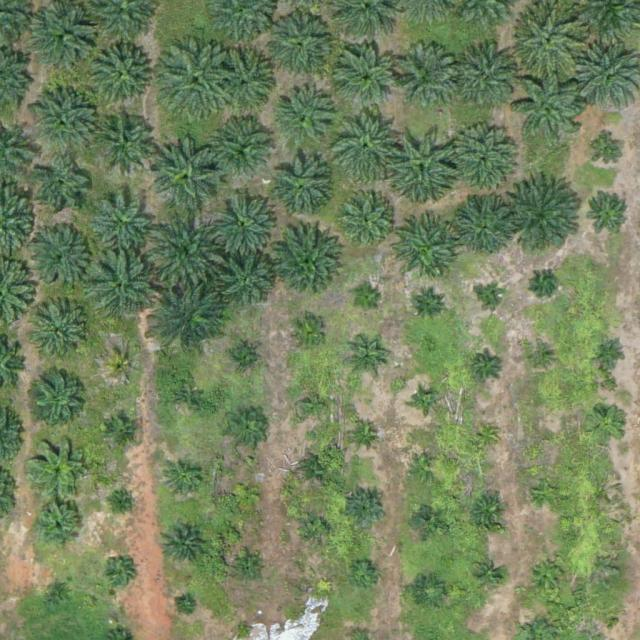Healthy: (386, 129, 464, 208), (328, 107, 406, 186), (156, 42, 234, 121), (147, 211, 225, 290), (152, 280, 230, 359), (508, 179, 586, 257), (515, 71, 586, 142), (271, 230, 342, 301), (516, 5, 586, 76), (446, 125, 517, 195), (209, 186, 279, 257), (153, 136, 223, 207), (89, 254, 160, 324), (389, 219, 459, 289), (30, 88, 100, 158), (452, 194, 515, 257), (274, 88, 337, 151), (95, 110, 158, 173), (27, 436, 90, 499), (456, 48, 518, 111), (393, 47, 455, 110), (337, 49, 399, 112), (336, 191, 398, 254), (267, 16, 329, 79), (269, 156, 332, 218), (213, 46, 275, 109), (92, 192, 154, 255), (32, 158, 94, 221), (29, 226, 91, 289), (215, 118, 277, 180), (90, 43, 152, 105), (35, 8, 97, 70), (221, 256, 276, 311), (36, 307, 91, 362), (32, 367, 86, 422), (295, 387, 334, 426)
Small: (32, 499, 87, 554), (161, 521, 208, 569), (586, 189, 633, 236), (228, 410, 267, 450), (347, 342, 386, 382), (288, 313, 327, 353), (470, 492, 509, 532), (529, 555, 568, 595), (589, 405, 628, 445), (168, 378, 207, 418), (166, 460, 205, 499), (348, 490, 387, 529), (415, 577, 446, 609), (414, 503, 445, 535), (301, 454, 332, 486), (595, 137, 626, 169), (349, 419, 380, 451), (302, 513, 333, 545), (226, 342, 257, 374), (232, 479, 263, 511), (350, 559, 381, 591), (473, 559, 504, 591), (108, 416, 139, 447), (414, 290, 445, 321), (473, 351, 504, 382), (595, 338, 626, 369), (533, 478, 564, 509), (410, 453, 441, 484), (352, 286, 383, 317), (236, 555, 267, 586), (104, 559, 135, 590), (46, 579, 77, 610), (533, 270, 557, 294), (475, 424, 499, 448), (415, 390, 439, 414), (481, 287, 504, 311), (529, 348, 552, 372), (537, 429, 560, 453), (589, 615, 612, 639), (179, 598, 194, 614), (117, 495, 132, 511), (237, 622, 252, 637)
Yellow: (108, 353, 139, 384)
